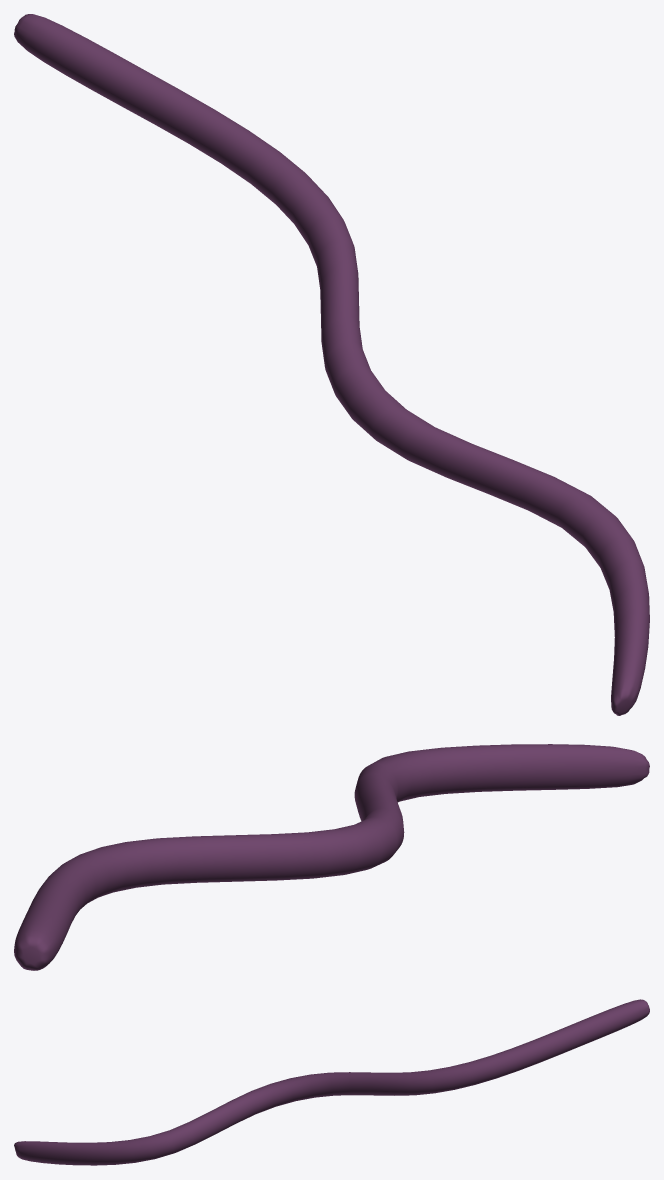
File: frame_33.obj
The picture shows the model from 3 angles, top to bottom: view 1: azimuth 30°, elevation 25°; view 2: azimuth 150°, elevation 25°; view 3: azimuth 270°, elevation 25°; orthographic projection. The views are drawn at different scales.
Visible parts, largest first — view 1: worm2; view 2: worm2; view 3: worm2.
Part boxes in pixels (left/top/right/bottom): worm2: left=14, top=14, right=649, bottom=715; worm2: left=14, top=744, right=649, bottom=970; worm2: left=14, top=999, right=649, bottom=1165.
Bounding box in the file's own units: 256 × 457 × 1724.
